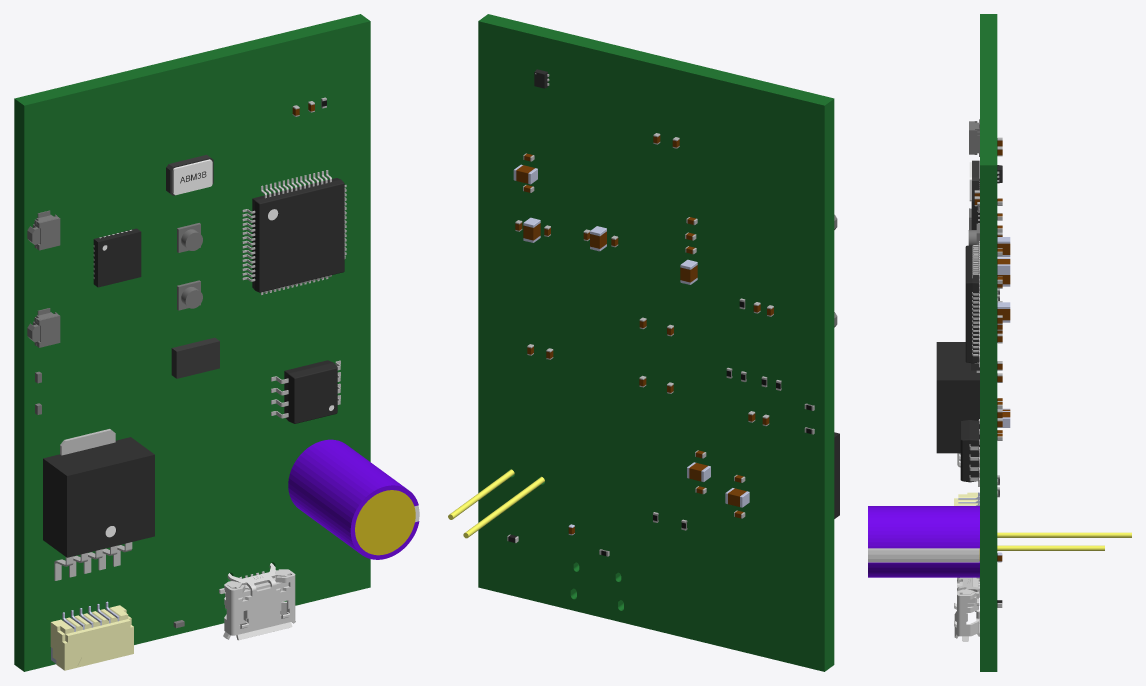
The model's file is IoT_Sensor_PCB.glb.
3 views of the same model, side by side, from view 1: azimuth 30°, elevation 25°; view 2: azimuth 150°, elevation 25°; view 3: azimuth 270°, elevation 25° (orthographic). The views are drawn at different scales.
Parts seen in each view (by area): view 1: Board.step-1/Open CASCADE STEP translator 7.5 1.1.1.step-1, U6.step-1/9107901104.step-1/Body.step-1/Open CASCADE STEP tr, U1.step-1/9107902304.step-1/Body-4.step-1/Open CASCADE STEP , C20.step-1/9253404528.step-1, J3.step-1/10103594.step-1, J4.step-1/SM06B-SRSS-TB.step-1, C20.step-1/9253497472.step-1/Extruded-6.step-1, U3.step-1/8749028912.step-1/Body-2.step-1/Open CASCADE STEP , U2.step-1/9107903456.step-1/Body-3.step-1/Open CASCADE STEP , U5.step-1/11460679392.step-1/Extruded.step-1, X1.step-1/ABM3B.step-1, SW1.step-1/B3U_3000P[]_RGB8421504.step-1 (+2 smaller); view 2: Board.step-1/Open CASCADE STEP translator 7.5 1.1.1.step-1, C20.step-1/9254628912.step-1/Cylinder-8.step-1; view 3: Board.step-1/Open CASCADE STEP translator 7.5 1.1.1.step-1, C20.step-1/9253404528.step-1, U6.step-1/9107901104.step-1/Body.step-1/Open CASCADE STEP tr, C20.step-1/9253500496.step-1/Extruded-7.step-1, J3.step-1/10103594.step-1, U1.step-1/9107902304.step-1/Body-4.step-1/Open CASCADE STEP , U3.step-1/8749028912.step-1/Body-2.step-1/Open CASCADE STEP , C20.step-1/9254628912.step-1/Cylinder-8.step-1, C20.step-1/9254628576.step-1/Cylinder-9.step-1, X1.step-1/ABM3B.step-1.
Boxes of the visible parts, box(x1,y1,x2,y2) form: Board.step-1/Open CASCADE STEP translator 7.5 1.1.1.step-1: box(14, 14, 370, 671); U6.step-1/9107901104.step-1/Body.step-1/Open CASCADE STEP tr: box(43, 437, 154, 557); U1.step-1/9107902304.step-1/Body-4.step-1/Open CASCADE STEP : box(252, 178, 344, 292); C20.step-1/9253404528.step-1: box(288, 439, 419, 559); J3.step-1/10103594.step-1: box(219, 563, 295, 640); J4.step-1/SM06B-SRSS-TB.step-1: box(50, 601, 133, 670); C20.step-1/9253497472.step-1/Extruded-6.step-1: box(355, 490, 415, 555); U3.step-1/8749028912.step-1/Body-2.step-1/Open CASCADE STEP : box(284, 360, 337, 423); U2.step-1/9107903456.step-1/Body-3.step-1/Open CASCADE STEP : box(93, 228, 141, 287); U5.step-1/11460679392.step-1/Extruded.step-1: box(171, 337, 219, 378); X1.step-1/ABM3B.step-1: box(166, 154, 213, 195); SW1.step-1/B3U_3000P[]_RGB8421504.step-1: box(27, 308, 60, 347); Board.step-1/Open CASCADE STEP translator 7.5 1.1.1.step-1: box(478, 14, 834, 671); C20.step-1/9254628912.step-1/Cylinder-8.step-1: box(463, 476, 544, 538); Board.step-1/Open CASCADE STEP translator 7.5 1.1.1.step-1: box(980, 14, 997, 671); C20.step-1/9253404528.step-1: box(868, 506, 979, 577); U6.step-1/9107901104.step-1/Body.step-1/Open CASCADE STEP tr: box(936, 342, 979, 453); C20.step-1/9253500496.step-1/Extruded-7.step-1: box(868, 548, 979, 562); J3.step-1/10103594.step-1: box(954, 577, 979, 641); U1.step-1/9107902304.step-1/Body-4.step-1/Open CASCADE STEP : box(965, 245, 979, 363); U3.step-1/8749028912.step-1/Body-2.step-1/Open CASCADE STEP : box(960, 420, 979, 482); C20.step-1/9254628912.step-1/Cylinder-8.step-1: box(997, 532, 1131, 537); C20.step-1/9254628576.step-1/Cylinder-9.step-1: box(997, 545, 1104, 550); X1.step-1/ABM3B.step-1: box(969, 160, 979, 202).
Bounding box in the file's own units: 0.04 × 0.0634 × 0.0295.
